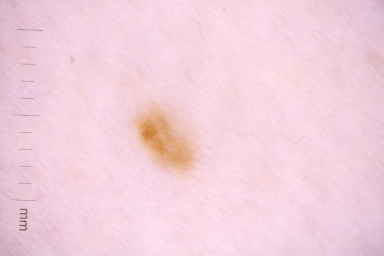melanoma: (139, 114, 194, 168)
